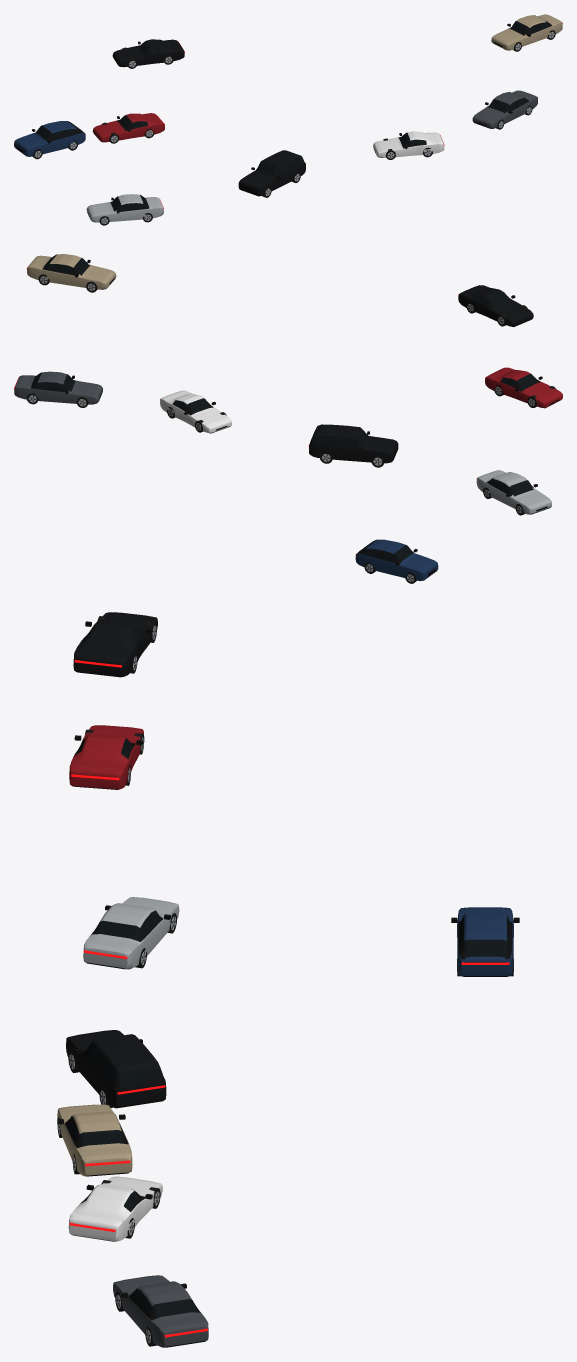
Rendered from mercedes_showroom_placeholder_cars.glb.
3 views of the same model, one above another, from view 1: azimuth 30°, elevation 25°; view 2: azimuth 150°, elevation 25°; view 3: azimuth 270°, elevation 25° (orthographic). The views are drawn at different scales.
Visible parts, largest first — view 1: P01_CAR_02_Suv_CarPaintBlack, P01_CAR_05_Crossover_CarPaintBlue, P01_CAR_01_Sedan_CarPaintSilver, P01_CAR_07_Sedan_CarPaintSand, P01_CAR_04_Sedan_CarPaintGraphite, P01_CAR_03_Coupe_CarPaintWhite, P01_CAR_08_Coupe_CarPaintBlack, P01_CAR_06_Coupe_CarPaintRed; view 2: P01_CAR_02_Suv_CarPaintBlack, P01_CAR_05_Crossover_CarPaintBlue, P01_CAR_04_Sedan_CarPaintGraphite, P01_CAR_07_Sedan_CarPaintSand, P01_CAR_01_Sedan_CarPaintSilver, P01_CAR_06_Coupe_CarPaintRed, P01_CAR_08_Coupe_CarPaintBlack, P01_CAR_03_Coupe_CarPaintWhite; view 3: P01_CAR_02_Suv_CarPaintBlack, P01_CAR_04_Sedan_CarPaintGraphite, P01_CAR_01_Sedan_CarPaintSilver, P01_CAR_07_Sedan_CarPaintSand, P01_CAR_03_Coupe_CarPaintWhite, P01_CAR_08_Coupe_CarPaintBlack, P01_CAR_05_Crossover_CarPaintBlue, P01_CAR_06_Coupe_CarPaintRed.
Part boxes in pixels (x1,y1,x2,y2): P01_CAR_02_Suv_CarPaintBlack: (238,150,305,197); P01_CAR_05_Crossover_CarPaintBlue: (14,121,85,159); P01_CAR_01_Sedan_CarPaintSilver: (86,194,163,225); P01_CAR_07_Sedan_CarPaintSand: (491,14,562,51); P01_CAR_04_Sedan_CarPaintGraphite: (472,90,537,129); P01_CAR_03_Coupe_CarPaintWhite: (373,131,444,159); P01_CAR_08_Coupe_CarPaintBlack: (112,39,184,68); P01_CAR_06_Coupe_CarPaintRed: (92,113,164,143); P01_CAR_02_Suv_CarPaintBlack: (308,424,398,467); P01_CAR_05_Crossover_CarPaintBlue: (355,539,438,583); P01_CAR_04_Sedan_CarPaintGraphite: (14,371,102,407); P01_CAR_07_Sedan_CarPaintSand: (26,254,116,292); P01_CAR_01_Sedan_CarPaintSilver: (476,470,551,515); P01_CAR_06_Coupe_CarPaintRed: (485,367,562,408); P01_CAR_08_Coupe_CarPaintBlack: (458,285,533,326); P01_CAR_03_Coupe_CarPaintWhite: (160,390,231,433); P01_CAR_02_Suv_CarPaintBlack: (66,1030,166,1108); P01_CAR_04_Sedan_CarPaintGraphite: (113,1275,208,1347); P01_CAR_01_Sedan_CarPaintSilver: (83,897,179,969); P01_CAR_07_Sedan_CarPaintSand: (57,1104,132,1176); P01_CAR_03_Coupe_CarPaintWhite: (68,1176,162,1241); P01_CAR_08_Coupe_CarPaintBlack: (73,612,157,677); P01_CAR_05_Crossover_CarPaintBlue: (451,907,519,976); P01_CAR_06_Coupe_CarPaintRed: (69,725,144,789).
Size of the model in its own units: 35.36 by 12.7 by 15.4.
